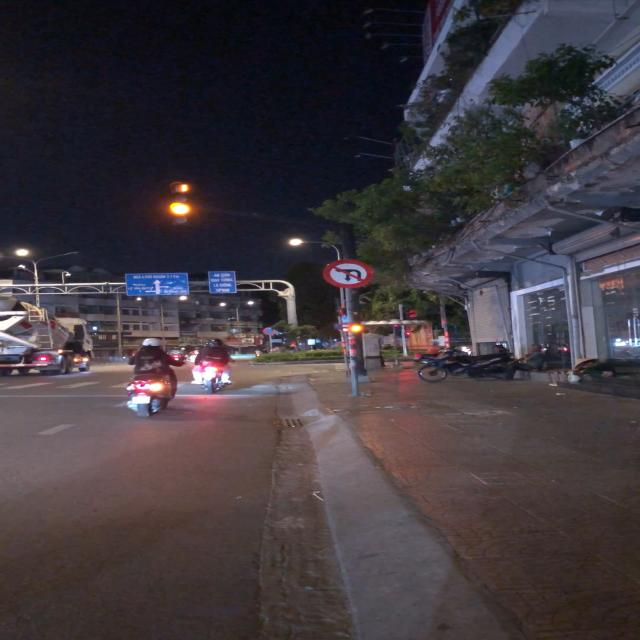Bien bao cam re trai va quay dau: (321, 259, 375, 289)
